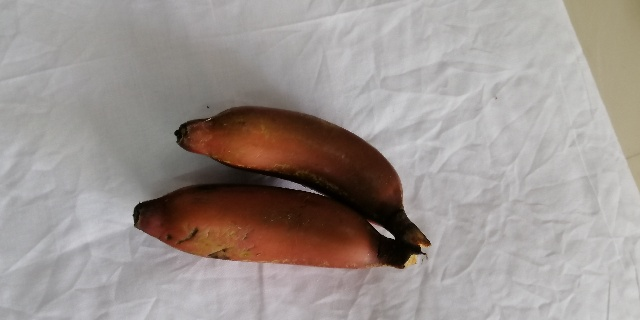banana_red: (175, 106, 432, 245), (133, 182, 423, 271)
